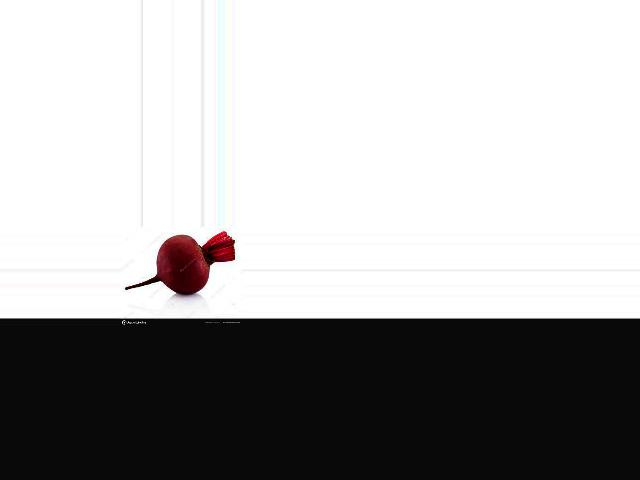beet: (125, 232, 235, 294)
